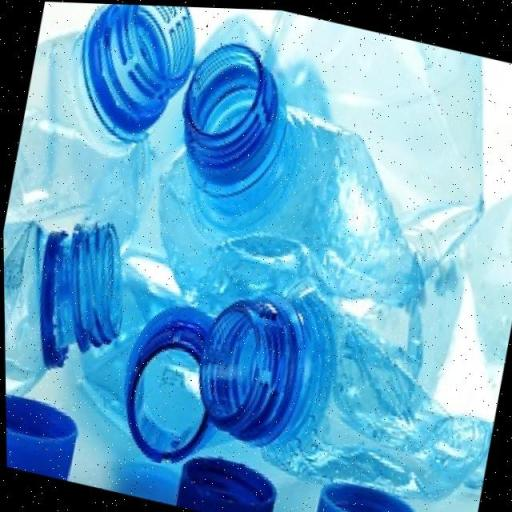plastic: (181, 277, 508, 512), (150, 26, 379, 308), (6, 0, 204, 231), (2, 198, 140, 428), (104, 290, 232, 477), (5, 388, 81, 482)
